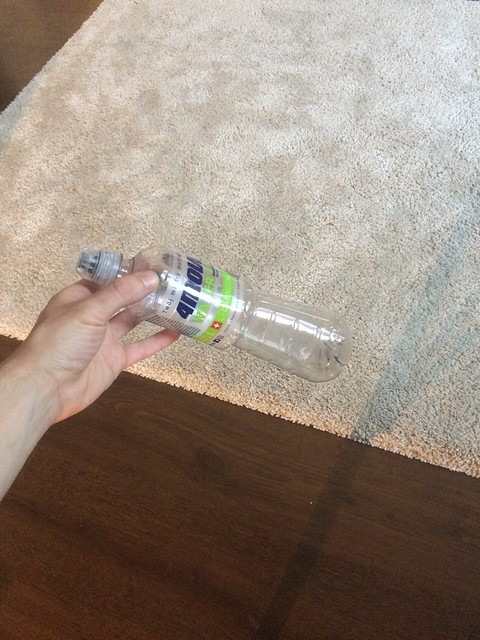bottle: (72, 238, 350, 384)
